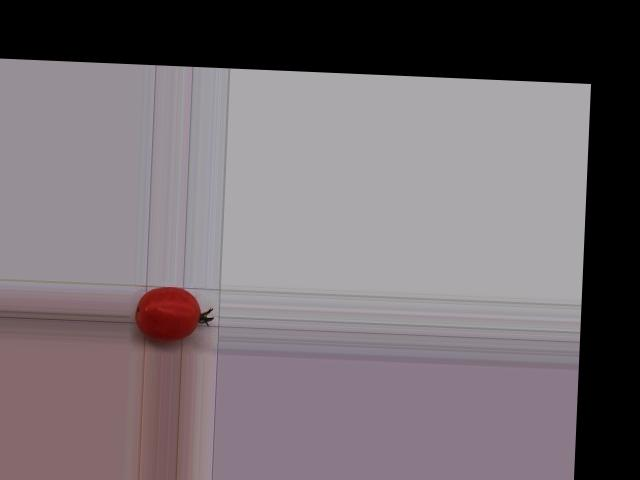tomato: (134, 285, 201, 342)
